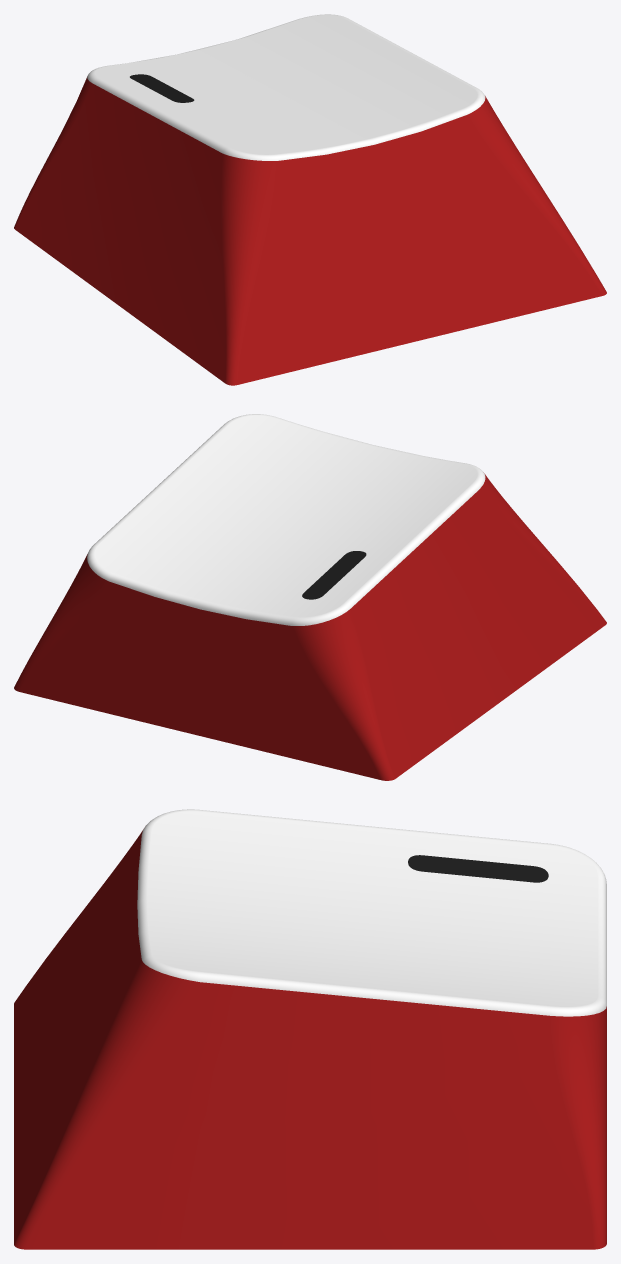
The picture shows the model from 3 angles, top to bottom: view 1: azimuth 30°, elevation 25°; view 2: azimuth 150°, elevation 25°; view 3: azimuth 270°, elevation 25°; orthographic projection. The views are drawn at different scales.
Visible parts, largest first — view 1: Body1; view 2: Body1; view 3: Body1.
Boxes of the visible parts, <box> form: Body1: <box>14,14,606,385</box>; Body1: <box>14,414,606,780</box>; Body1: <box>14,809,606,1249</box>.
Size of the model in its own units: 18 by 7.85 by 18.
